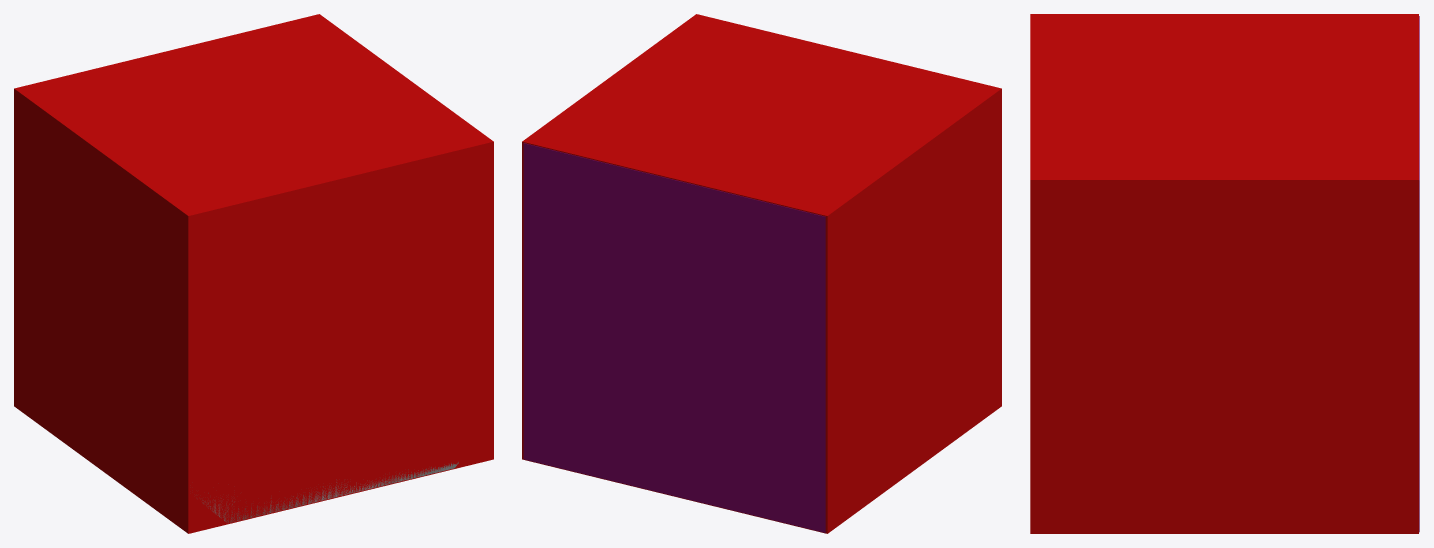
File: SciFi_wall_trim_plug.DAE
3 views of the same model, side by side, from view 1: azimuth 30°, elevation 25°; view 2: azimuth 150°, elevation 25°; view 3: azimuth 270°, elevation 25° (orthographic). The views are drawn at different scales.
Parts seen in each view (by area): view 1: colbox-01, wall_trim_plug; view 2: colbox-01, bounds; view 3: colbox-01, bounds.
Part boxes in pixels (bbox=[...]): colbox-01: bbox=[14, 14, 493, 533]; wall_trim_plug: bbox=[202, 462, 458, 523]; colbox-01: bbox=[522, 14, 1001, 533]; bounds: bbox=[523, 143, 825, 532]; colbox-01: bbox=[1030, 14, 1418, 533]; bounds: bbox=[1419, 16, 1419, 532].
Size of the model in its own units: 60.68 by 60.1 by 60.34.
